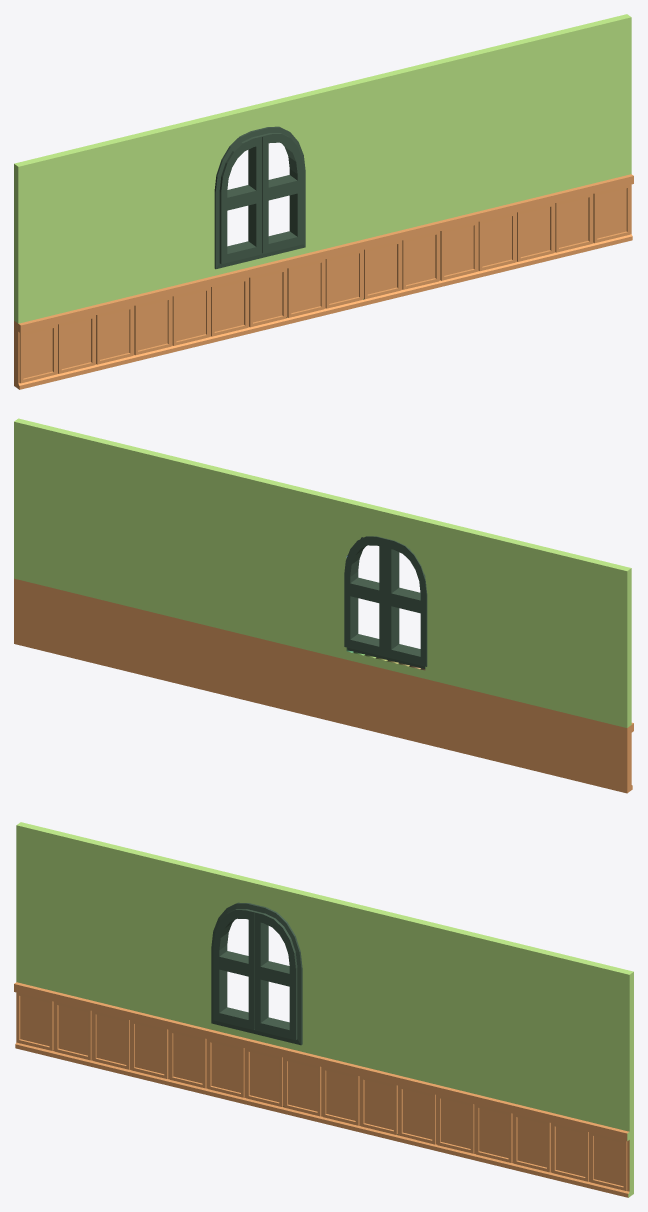
File: karsiduvar.fbx
The picture shows the model from 3 angles, top to bottom: view 1: azimuth 30°, elevation 25°; view 2: azimuth 150°, elevation 25°; view 3: azimuth 330°, elevation 25°; orthographic projection.
Parts seen in each view (by area): view 1: Cube.055; view 2: Cube.055; view 3: Cube.055.
Part boxes in pixels (box(x1,y1,x2,y2)): Cube.055: box(14, 14, 633, 389); Cube.055: box(14, 418, 633, 793); Cube.055: box(14, 822, 633, 1197).
Size of the model in its own units: 2752 by 61.87 by 953.
